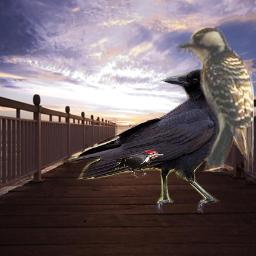Crow: (65, 68, 233, 213)
Woodpecker: (176, 26, 254, 172), (107, 150, 165, 178)
